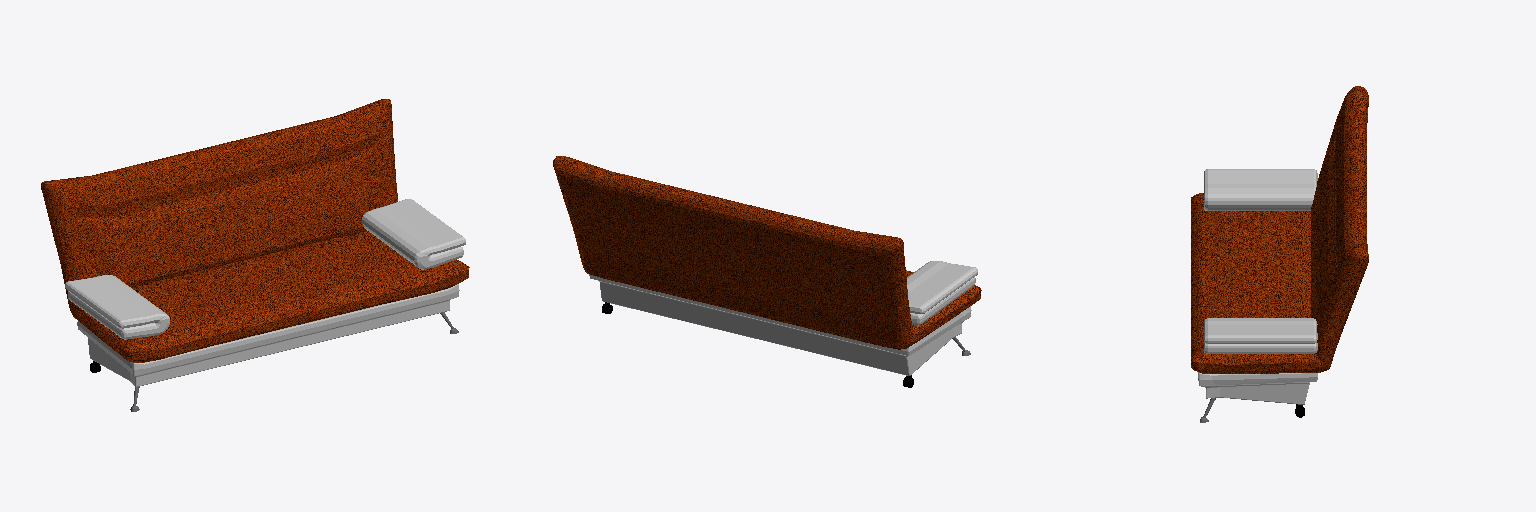
3 views of the same model, side by side, from view 1: azimuth 30°, elevation 25°; view 2: azimuth 150°, elevation 25°; view 3: azimuth 270°, elevation 25° (orthographic).
Size of the model in its own units: 1.99 by 0.9565 by 0.8845.
Materials: 4 (2 with a texture image).